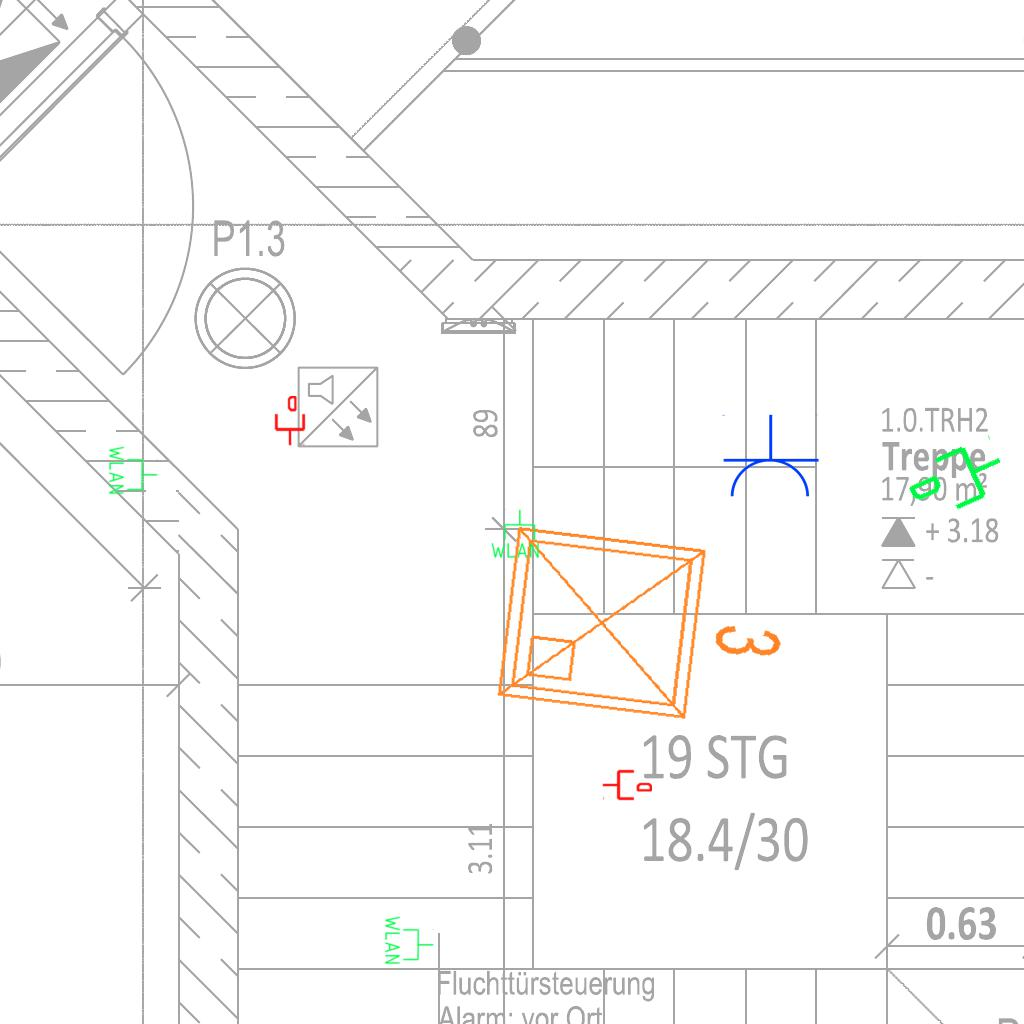Datenanschluss_einfach: (897, 429, 1018, 533), (273, 396, 307, 446), (602, 768, 652, 802)
Einbaudownlights_LED_Konferenzraeume: (481, 502, 805, 746)
Schukosteckdose_einfach: (720, 414, 820, 501)
WLAN: (383, 914, 435, 966), (107, 444, 159, 496), (489, 508, 541, 560)
